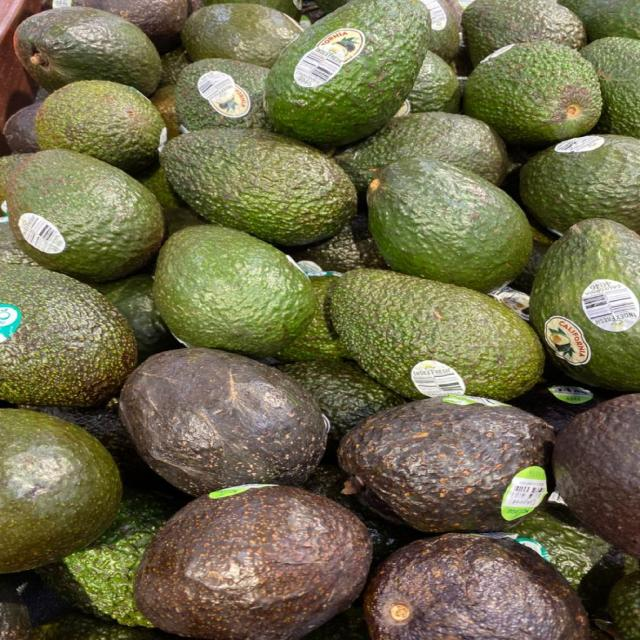avocado: (135, 486, 371, 639), (119, 348, 326, 495), (339, 397, 553, 533), (331, 269, 544, 400), (266, 0, 430, 144), (365, 534, 589, 639), (161, 128, 356, 245), (367, 158, 532, 292), (153, 226, 316, 356), (7, 150, 163, 281), (0, 410, 121, 572), (0, 265, 136, 406), (37, 490, 177, 626), (530, 218, 639, 391), (506, 502, 638, 615), (464, 42, 601, 145), (554, 395, 639, 557), (336, 113, 507, 191), (14, 7, 161, 95), (303, 465, 421, 568), (35, 81, 164, 172), (280, 361, 406, 454), (520, 135, 639, 233), (30, 400, 159, 487), (462, 0, 586, 66), (181, 3, 302, 67), (95, 275, 179, 362), (176, 59, 270, 131), (66, 0, 187, 52), (275, 275, 347, 362), (580, 38, 639, 138), (291, 211, 387, 272), (510, 376, 610, 431), (0, 154, 37, 265), (34, 612, 179, 639), (407, 51, 460, 113), (560, 0, 639, 41), (512, 226, 556, 293), (420, 0, 459, 61), (135, 165, 185, 208), (0, 154, 31, 223), (305, 607, 370, 639), (608, 572, 639, 639), (0, 577, 33, 639), (2, 102, 41, 153), (0, 215, 37, 268), (151, 85, 180, 139), (159, 47, 190, 87), (164, 208, 206, 237), (253, 0, 301, 19), (315, 0, 347, 16)
